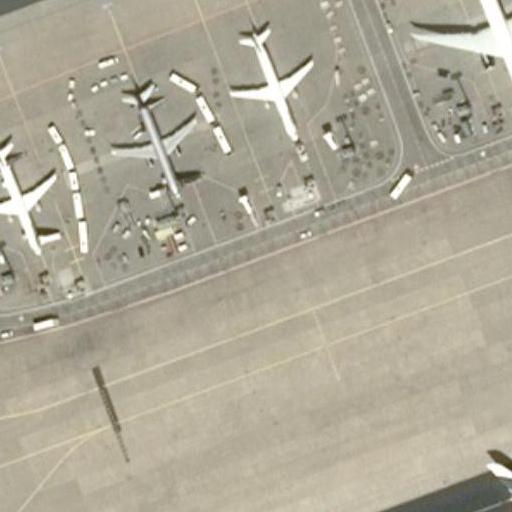Aircraft: (408, 0, 512, 111), (103, 82, 199, 198), (228, 26, 316, 144), (0, 139, 58, 258), (479, 372, 512, 512)
